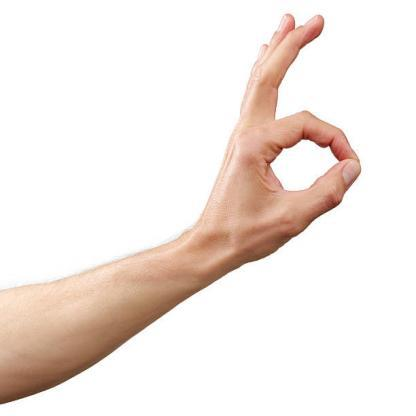ok: (204, 10, 363, 260)
